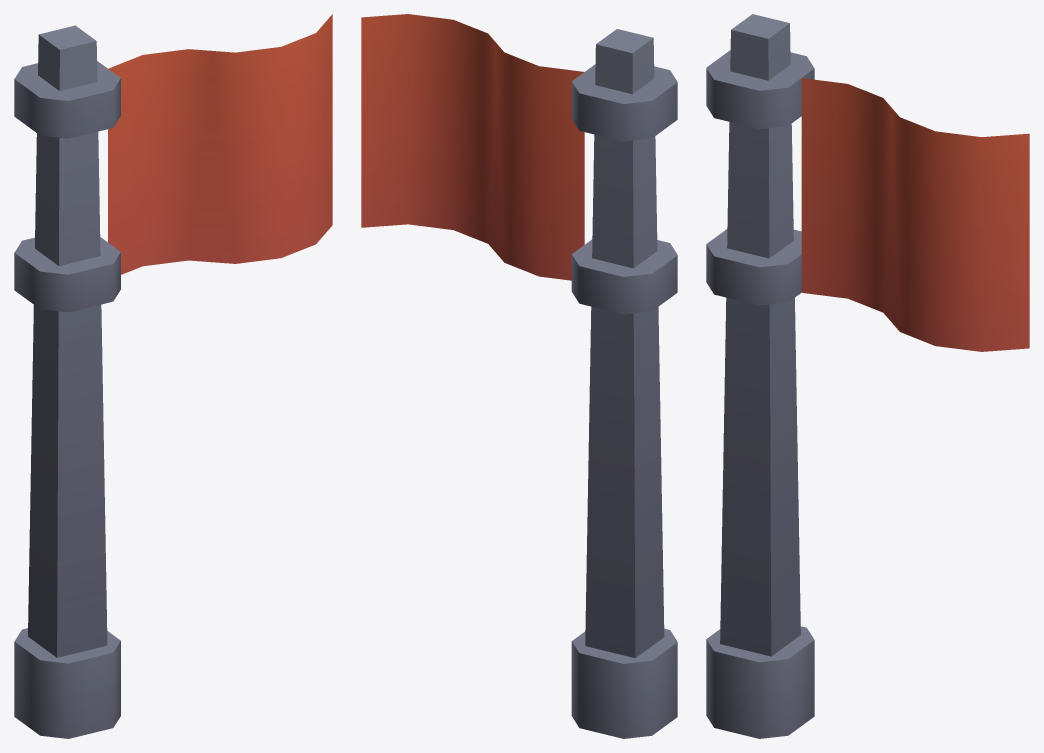
The model's file is castle_flag.glb.
3 renders of one model, left to right at view 1: azimuth 30°, elevation 25°; view 2: azimuth 150°, elevation 25°; view 3: azimuth 330°, elevation 25°, orthographic. The views are drawn at different scales.
Parts seen in each view (by area): view 1: flag; view 2: flag; view 3: flag.
Part boxes in pixels (box(x1,y1,x2,y2)): flag: box(14, 14, 332, 738); flag: box(361, 14, 677, 738); flag: box(706, 14, 1029, 738).
Size of the model in its own units: 0.4235 by 0.9 by 0.112.
Materials: 1 (1 with a texture image).
